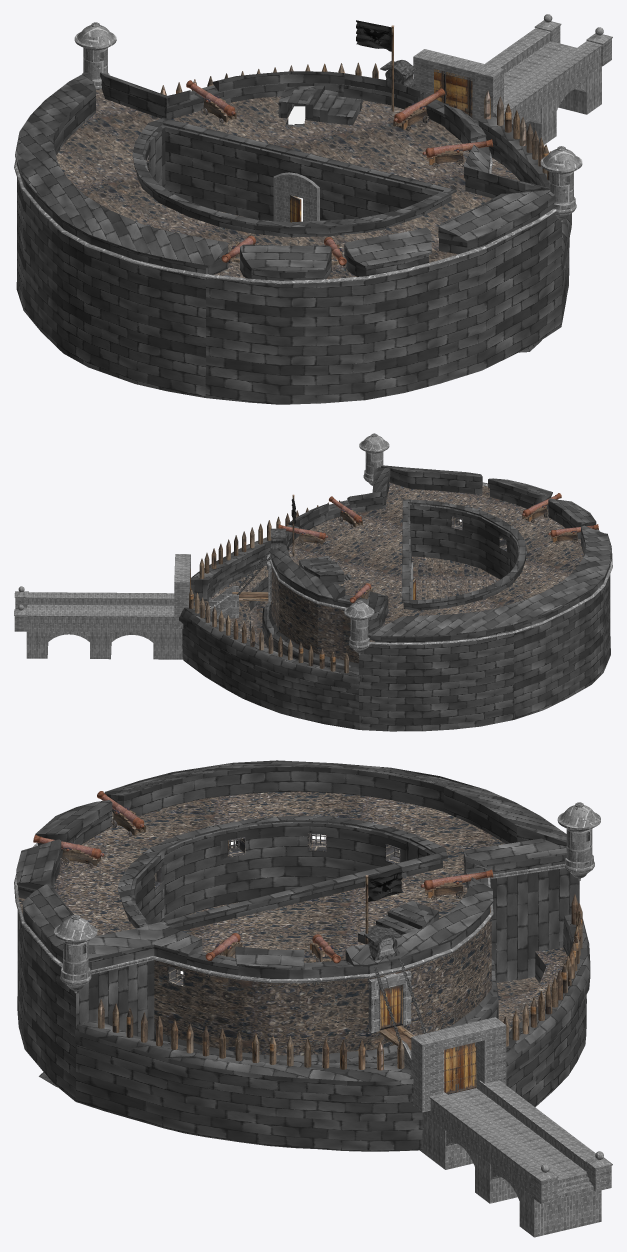
File: The_castle_of_boss.glb
3 views of the same model, one above another, from view 1: azimuth 30°, elevation 25°; view 2: azimuth 150°, elevation 25°; view 3: azimuth 270°, elevation 25° (orthographic). The views are drawn at different scales.
Parts seen in each view (by area): view 1: castillo, puente_acceso, torretas, puerta patio, empalizada, object 13, object 12, bandera, escudo; view 2: castillo, puente_acceso, empalizada, torretas, object 13, object 12, foso; view 3: castillo, puente_acceso, empalizada, torretas, object 13, object 12, ventanas, foso, escudo, bandera.
Boxes of the visible parts, x1,y1,x2,y2 form: castillo: [14, 71, 571, 404]; puente_acceso: [413, 14, 612, 144]; torretas: [74, 22, 582, 222]; puerta patio: [273, 172, 319, 222]; empalizada: [160, 62, 550, 180]; object 13: [186, 80, 493, 265]; object 12: [203, 98, 463, 264]; bandera: [356, 20, 391, 51]; escudo: [380, 60, 416, 86]; castillo: [179, 465, 612, 731]; puente_acceso: [14, 554, 190, 659]; empalizada: [189, 500, 348, 673]; torretas: [344, 433, 389, 654]; object 13: [278, 493, 598, 602]; object 12: [298, 505, 577, 598]; foso: [250, 601, 268, 647]; castillo: [14, 760, 590, 1151]; puente_acceso: [411, 1017, 612, 1237]; empalizada: [98, 894, 582, 1070]; torretas: [54, 802, 600, 993]; object 13: [33, 791, 493, 963]; object 12: [61, 810, 463, 961]; ventanas: [134, 833, 400, 987]; foso: [497, 977, 539, 1024]; escudo: [364, 926, 401, 960]; bandera: [368, 867, 402, 901].
Size of the model in its own units: 85.76 by 25.15 by 63.29.
Materials: 25 (23 with a texture image).
